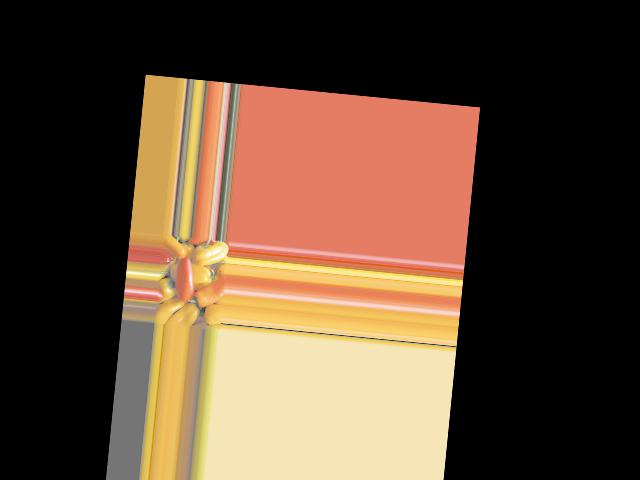bell_pepper: (194, 238, 228, 269)
